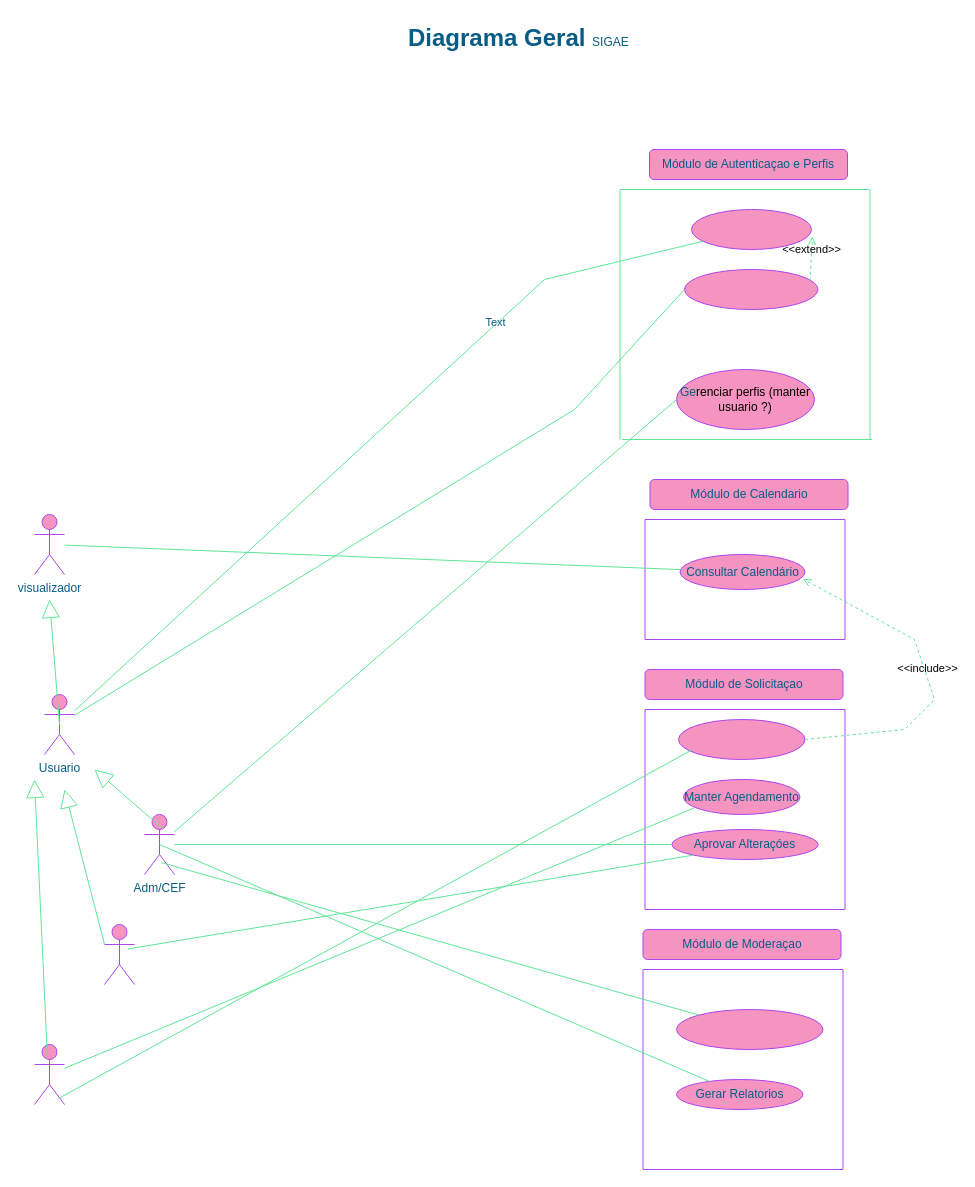
Image size: 975x1187. Some labels were removed from this diagram. Each missing label, with the centre of its shape:
DCE: (x=119, y=954)
Manter Agendamento Administrativo: (x=749, y=1029)
Realizar login: (x=751, y=229)
Recuperar senha: (x=751, y=289)
Solicitante (aluno): (x=49, y=1074)
Solicitar Agendamento: (x=741, y=739)
